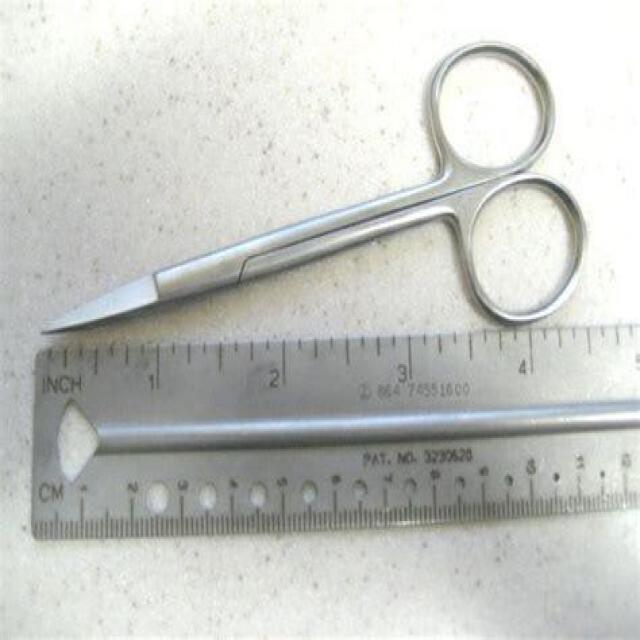Iris: (31, 34, 593, 344)
